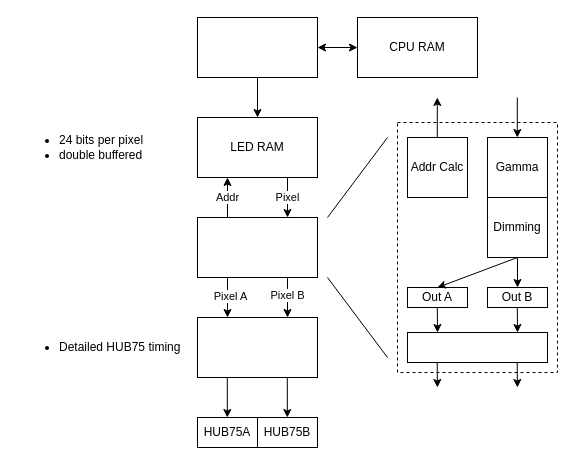
Image size: 575x465. Some labels were removed from this diagram. Here are the shapes that lost their labels. From the top down, the centre of each, then its label:
point (257, 47): VexRiscv CPU
point (257, 247): HUB75 Streamer
point (257, 347): HUB75 Phy
point (477, 347): Burst FIFO
